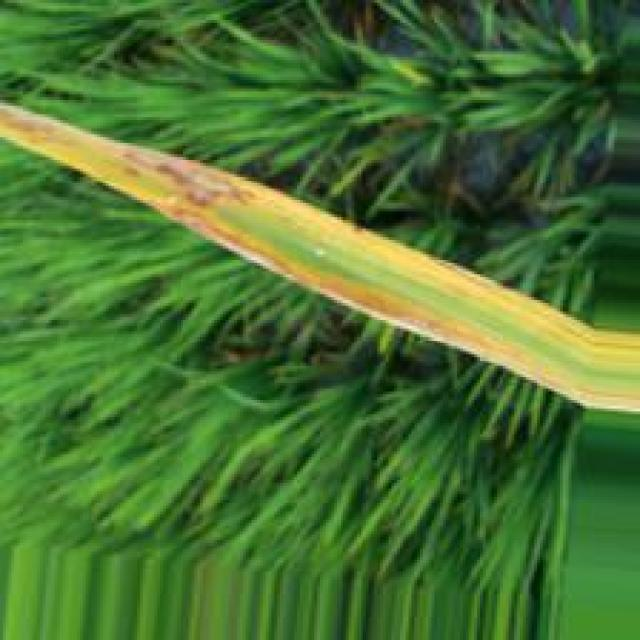Bacterial_Leaf_Blight: (0, 100, 640, 418)
